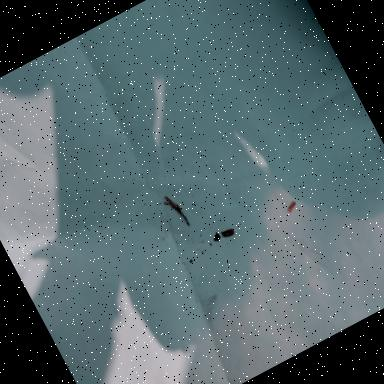pbw: (160, 190, 183, 218), (220, 225, 235, 239)
